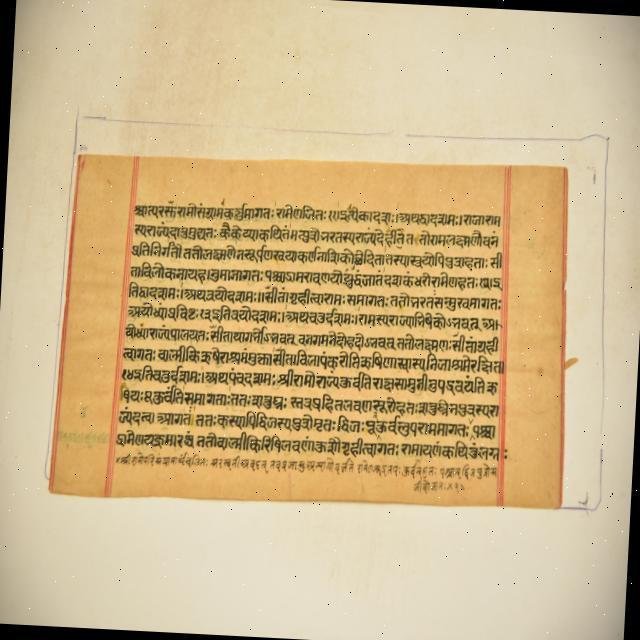text_paragraph: (45, 150, 569, 510)
